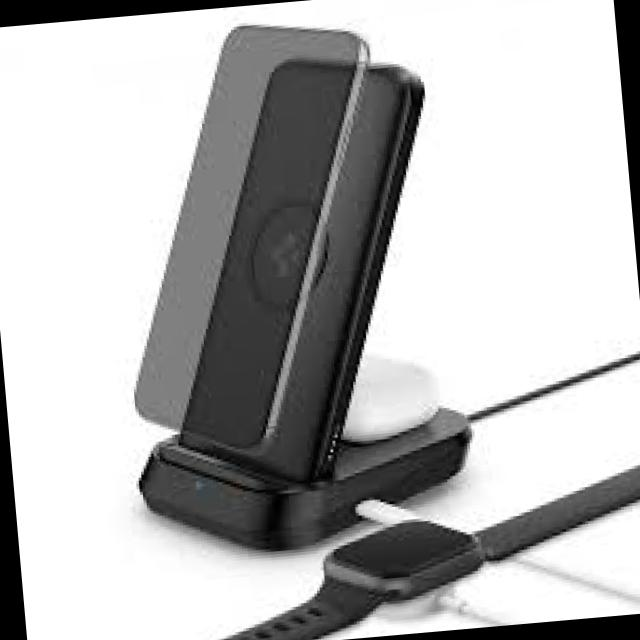power_bank: (136, 54, 458, 490)
